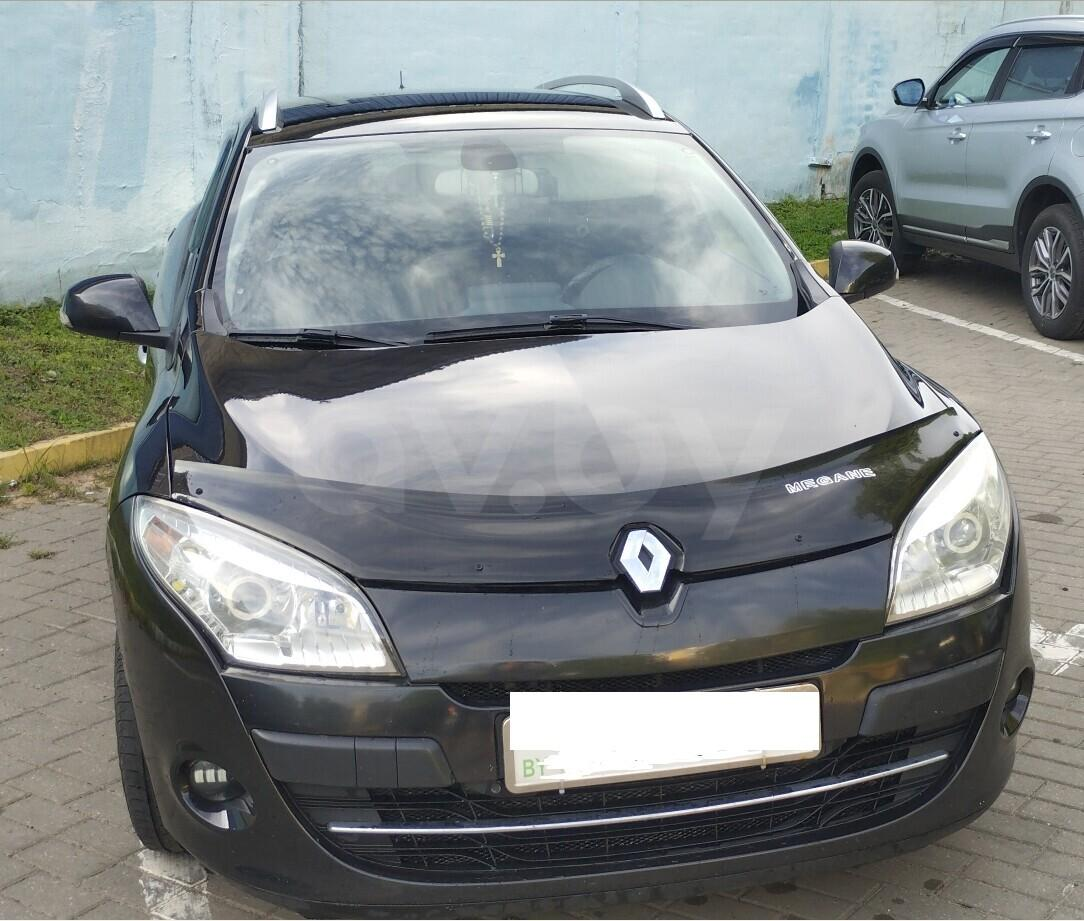Megane_2008-2014: (84, 90, 1041, 896)
